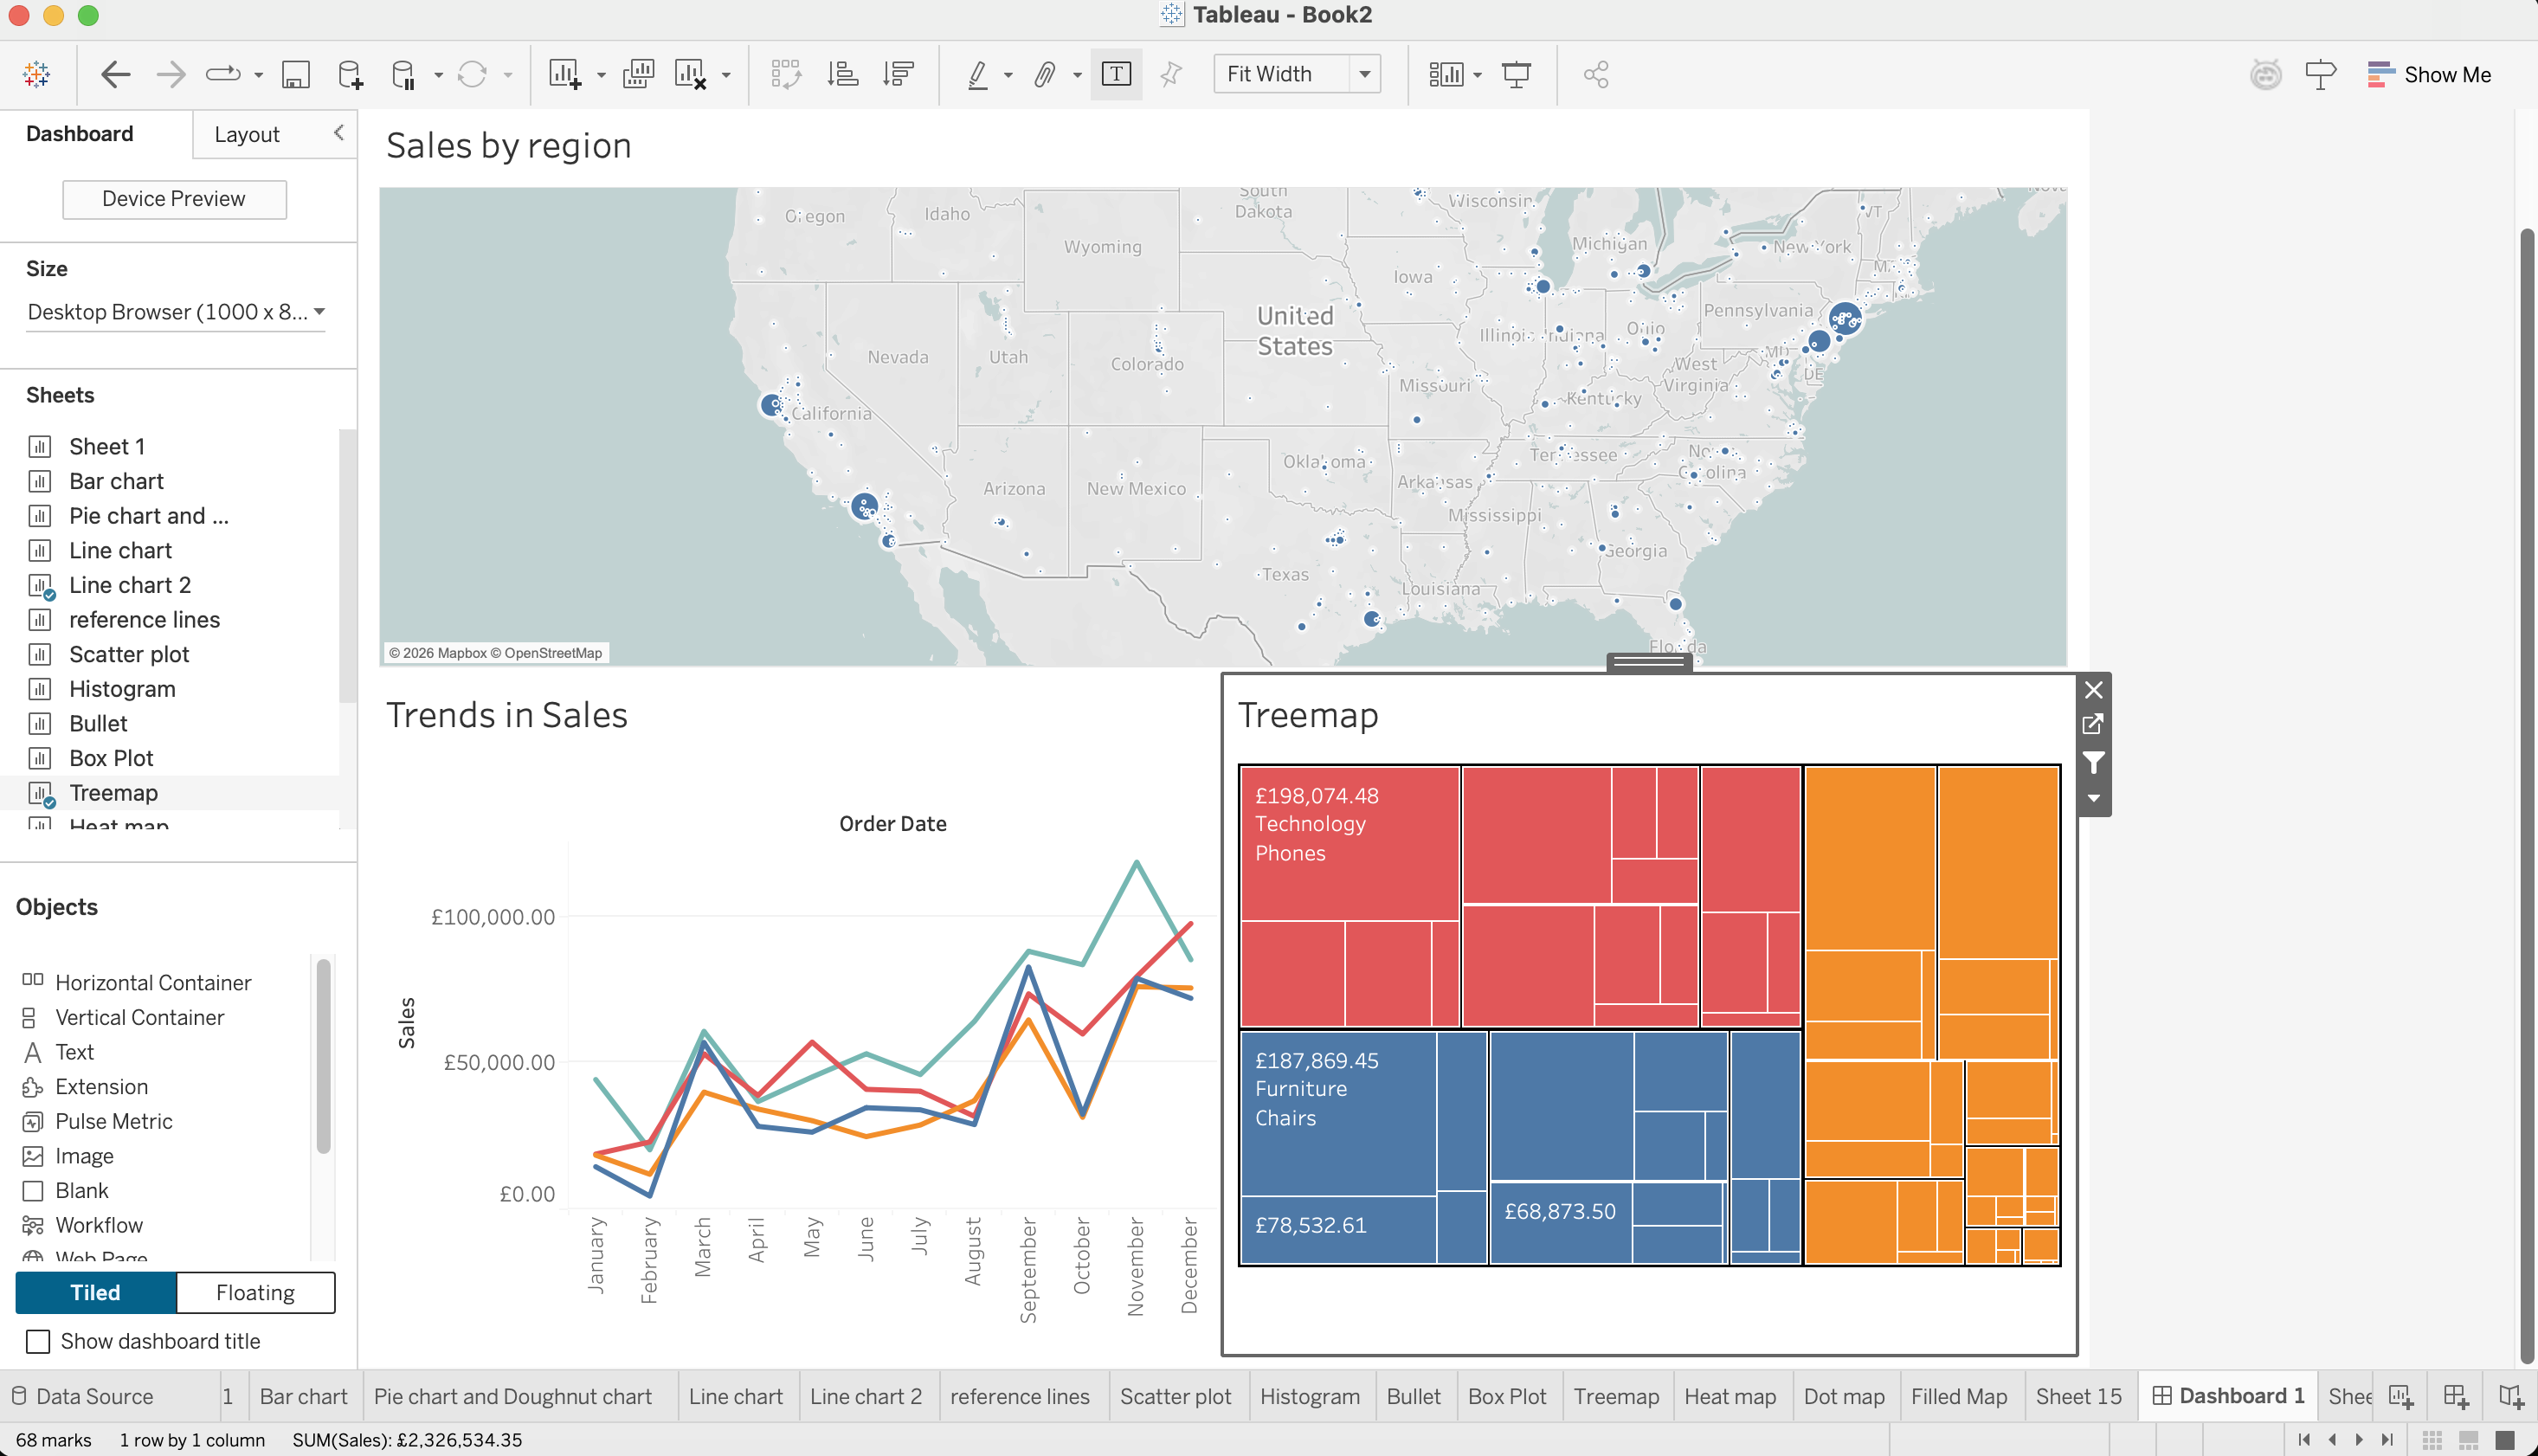

This screenshot's page, from the dashboard's own definition file:
{"tool":"tableau","page":{"name":"Dashboard 1","canvas":[1000,800],"ordinal":0},"visuals":[{"type":"text","box":[8,8,984,63]},{"type":"worksheet","title":"Dot map","mark":"Automatic","box":[8,71,984,329]},{"type":"worksheet","title":"Line chart 2","mark":"Line","rows":["Sales"],"cols":["Order Date"],"box":[8,400,492,392]},{"type":"worksheet","title":"Treemap","mark":"Automatic","box":[500,400,492,392]}]}

Visuals, with their boxes on the page's 1000x800 design canvas (x1, y1, x2, y2). These are canvas units, not pixel positions in the 2538x1456 screenshot, which may show the page scaled, cropped or inside an application window:
text: [8,8,992,71]
"Dot map" worksheet: [8,71,992,400]
"Line chart 2" worksheet (Line marks): [8,400,500,792]
"Treemap" worksheet: [500,400,992,792]
